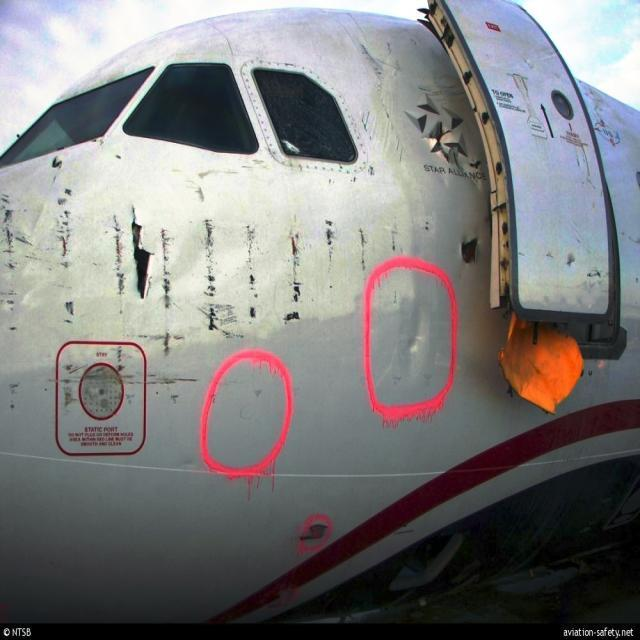crack: (125, 204, 159, 308), (453, 230, 487, 268)
dent: (396, 300, 434, 366)
